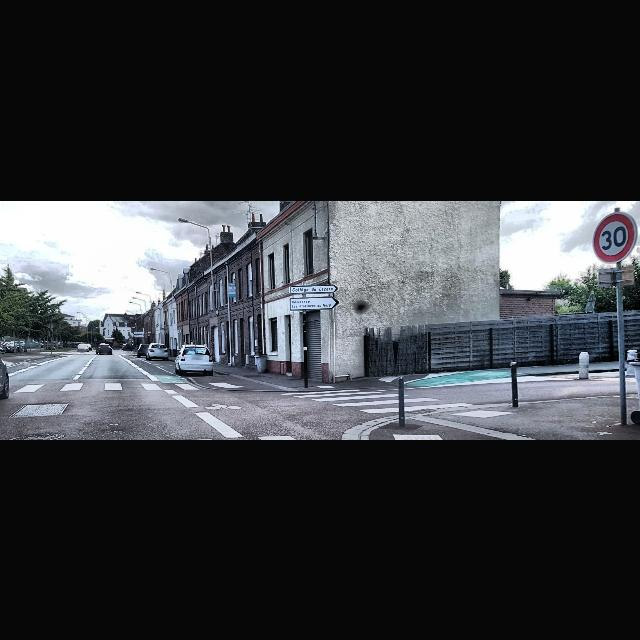speed_30: (592, 213, 636, 263)
